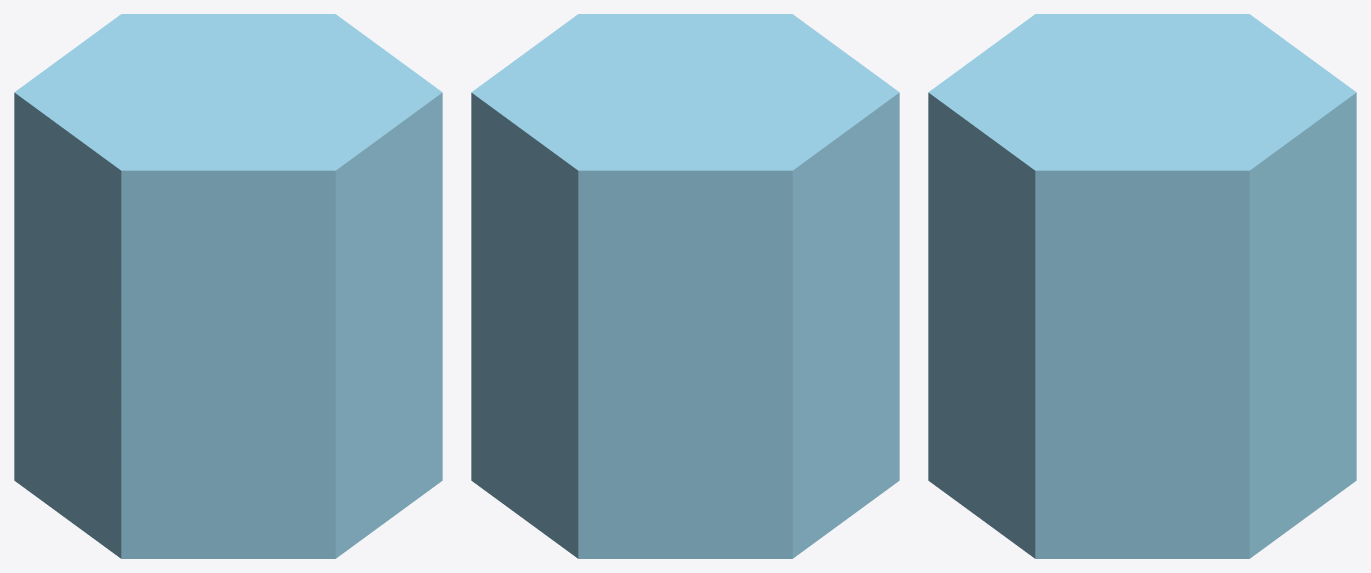
File: Prisma Hexagonal.glb
3 views of the same model, side by side, from view 1: azimuth 30°, elevation 25°; view 2: azimuth 150°, elevation 25°; view 3: azimuth 270°, elevation 25° (orthographic).
Parts seen in each view (by area): view 1: Prisma Hexagonal; view 2: Prisma Hexagonal; view 3: Prisma Hexagonal.
Boxes of the visible parts, box(x1,y1,x2,y2) form: Prisma Hexagonal: box(14, 14, 442, 558); Prisma Hexagonal: box(471, 14, 899, 558); Prisma Hexagonal: box(928, 14, 1356, 558).
Size of the model in its own units: 1.73 by 2 by 2.
